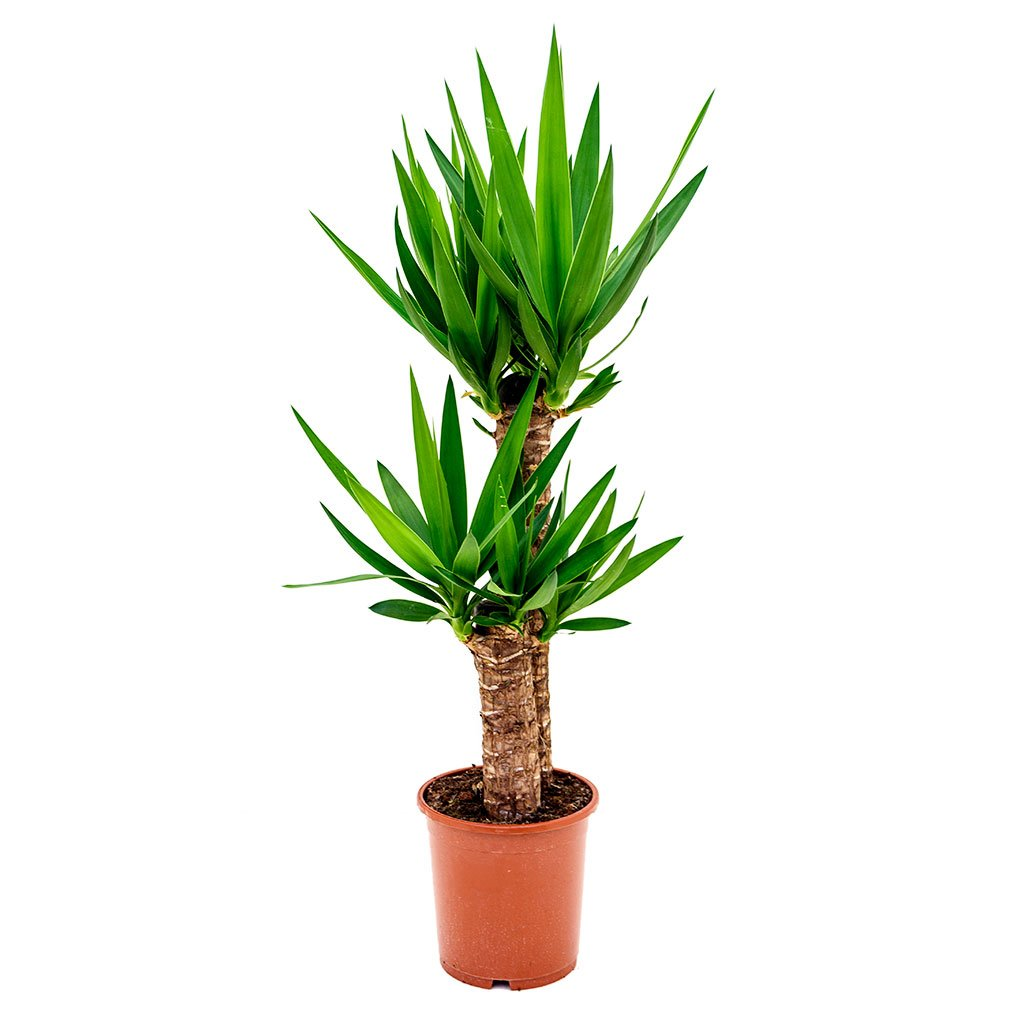plant: (280, 33, 719, 990)
